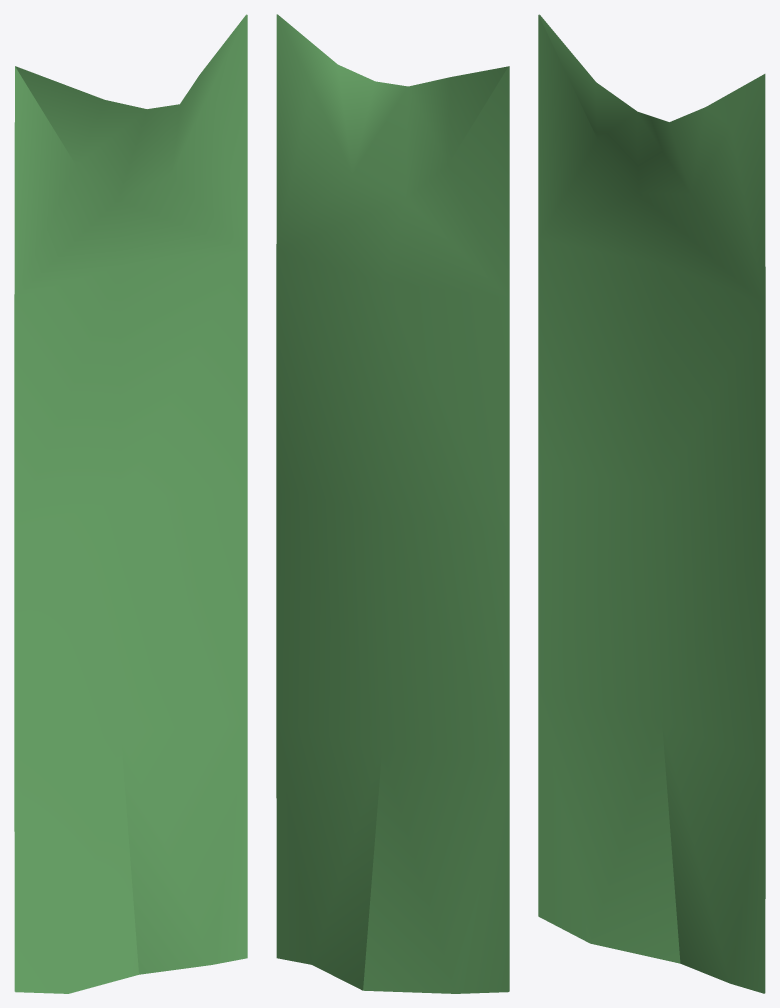
Rendered from Bld3_Deco_Banner.fbx.
The picture shows the model from 3 angles, left to right: view 1: azimuth 30°, elevation 25°; view 2: azimuth 150°, elevation 25°; view 3: azimuth 330°, elevation 25°; orthographic projection. The views are drawn at different scales.
Visible parts, largest first — view 1: Bld3_Deco_Banner; view 2: Bld3_Deco_Banner; view 3: Bld3_Deco_Banner.
Boxes of the visible parts, x1,y1,x2,y2 form: Bld3_Deco_Banner: (14,14,247,993); Bld3_Deco_Banner: (276,14,509,993); Bld3_Deco_Banner: (538,14,765,993).
Size of the model in its own units: 150 by 586 by 30.58.
